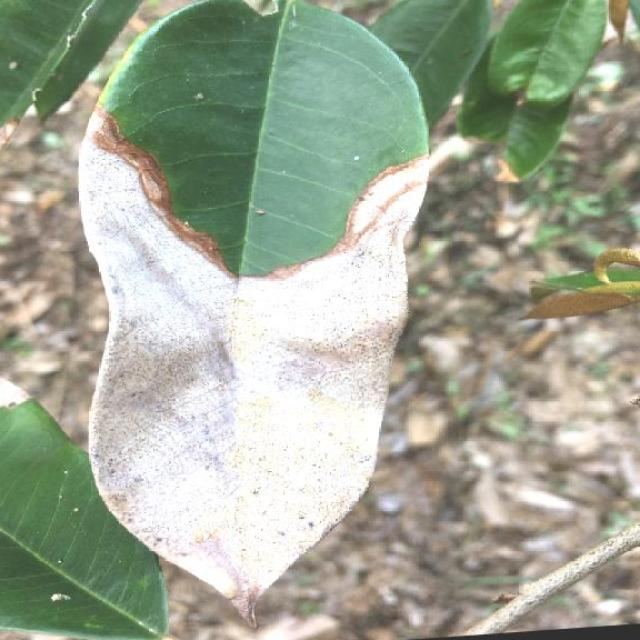Leaf Blight: (52, 0, 472, 640)
